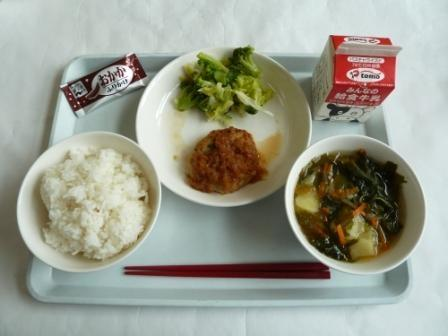Meat: (178, 125, 267, 200)
Milk: (316, 30, 415, 121)
Rice: (19, 141, 164, 265)
Salad: (180, 45, 285, 129)
Soups: (296, 140, 418, 271)
